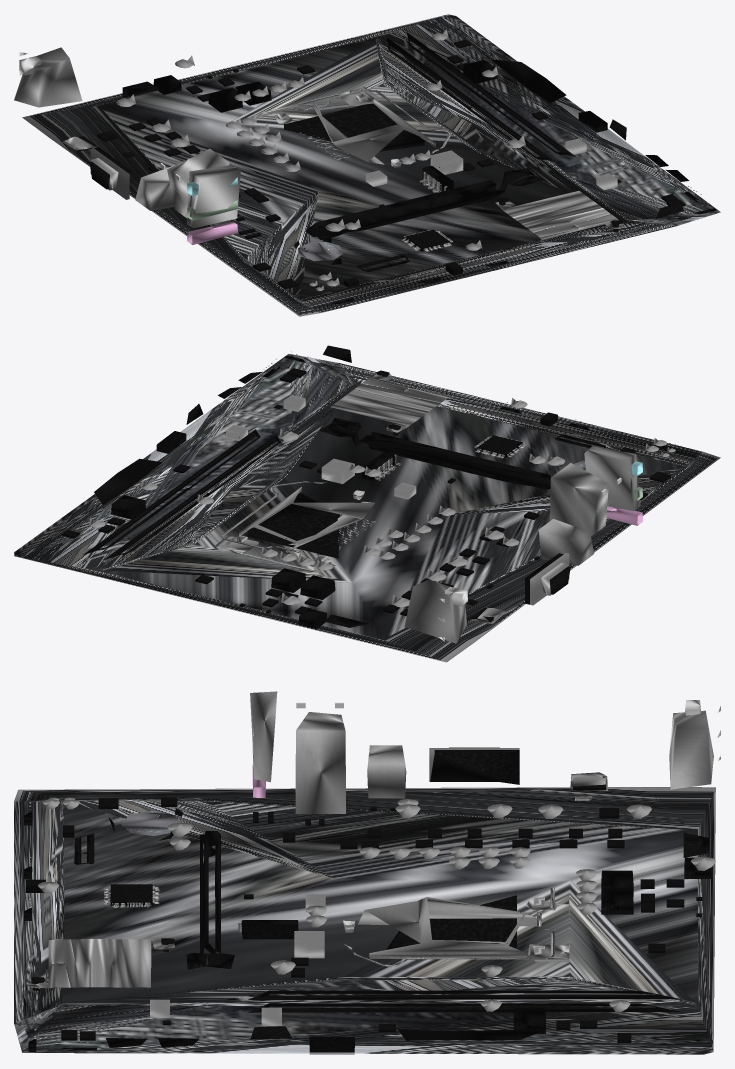
The model's file is mobo-h510m.glb.
3 renders of one model, top to bottom at view 1: azimuth 30°, elevation 25°; view 2: azimuth 150°, elevation 25°; view 3: azimuth 270°, elevation 25°, orthographic. The views are drawn at different scales.
Parts seen in each view (by area): view 1: object 1, PCI-E, object 8, object 17, object 137, object 149, object 26, object 3, object 6, object 146, object 139, object 2 (+10 smaller); view 2: object 1, PCI-E, object 8, object 146, object 17, object 137, object 149, object 26, object 139, object 3, object 6, object 2 (+9 smaller); view 3: object 1, object 26, object 8, object 146, object 6, object 3, object 137, object 143, object 17, object 139, object 149, PCI-E (+12 smaller).
Part boxes in pixels (left/top/right/bottom): object 1: left=22, top=14, right=720, bottom=316; PCI-E: left=305, top=180, right=504, bottom=239; object 8: left=495, top=191, right=624, bottom=239; object 17: left=284, top=103, right=424, bottom=151; object 137: left=14, top=47, right=82, bottom=107; object 149: left=187, top=165, right=240, bottom=228; object 26: left=313, top=98, right=435, bottom=164; object 3: left=406, top=32, right=575, bottom=156; object 6: left=386, top=37, right=555, bottom=161; object 146: left=167, top=148, right=230, bottom=224; object 139: left=135, top=165, right=174, bottom=210; object 2: left=492, top=59, right=566, bottom=103; object 1: left=14, top=354, right=720, bottom=662; PCI-E: left=358, top=431, right=550, bottom=489; object 8: left=330, top=373, right=449, bottom=432; object 146: left=550, top=463, right=608, bottom=536; object 17: left=247, top=493, right=341, bottom=558; object 137: left=404, top=579, right=466, bottom=643; object 149: left=584, top=446, right=640, bottom=511; object 26: left=239, top=487, right=374, bottom=552; object 139: left=538, top=519, right=593, bottom=565; object 3: left=83, top=429, right=260, bottom=554; object 6: left=104, top=434, right=280, bottom=559; object 2: left=94, top=458, right=162, bottom=504; object 1: left=14, top=787, right=715, bottom=1054; object 26: left=358, top=897, right=541, bottom=958; object 8: left=26, top=939, right=174, bottom=988; object 146: left=295, top=712, right=345, bottom=813; object 6: left=248, top=990, right=680, bottom=999; object 3: left=248, top=1003, right=680, bottom=1012; object 137: left=669, top=710, right=713, bottom=789; object 143: left=430, top=750, right=519, bottom=784; object 17: left=386, top=895, right=516, bottom=949; object 139: left=367, top=745, right=406, bottom=798; object 149: left=250, top=691, right=277, bottom=782; PCI-E: left=200, top=831, right=220, bottom=953.
Bounding box in the file's own units: 4.67 × 0.7805 × 5.
Materials: 13 (6 with a texture image).
